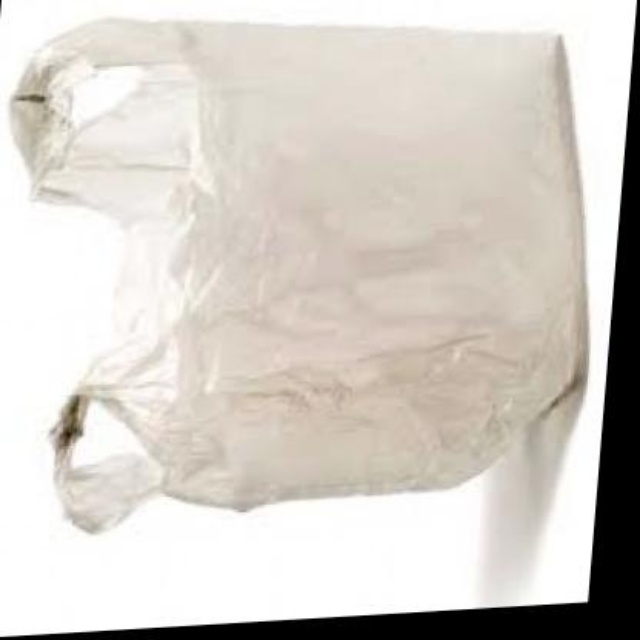trash: (11, 18, 585, 531)
